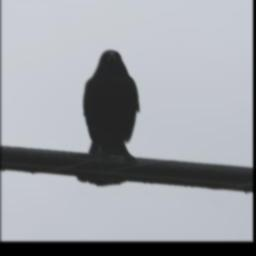Crow: (78, 49, 142, 187)
